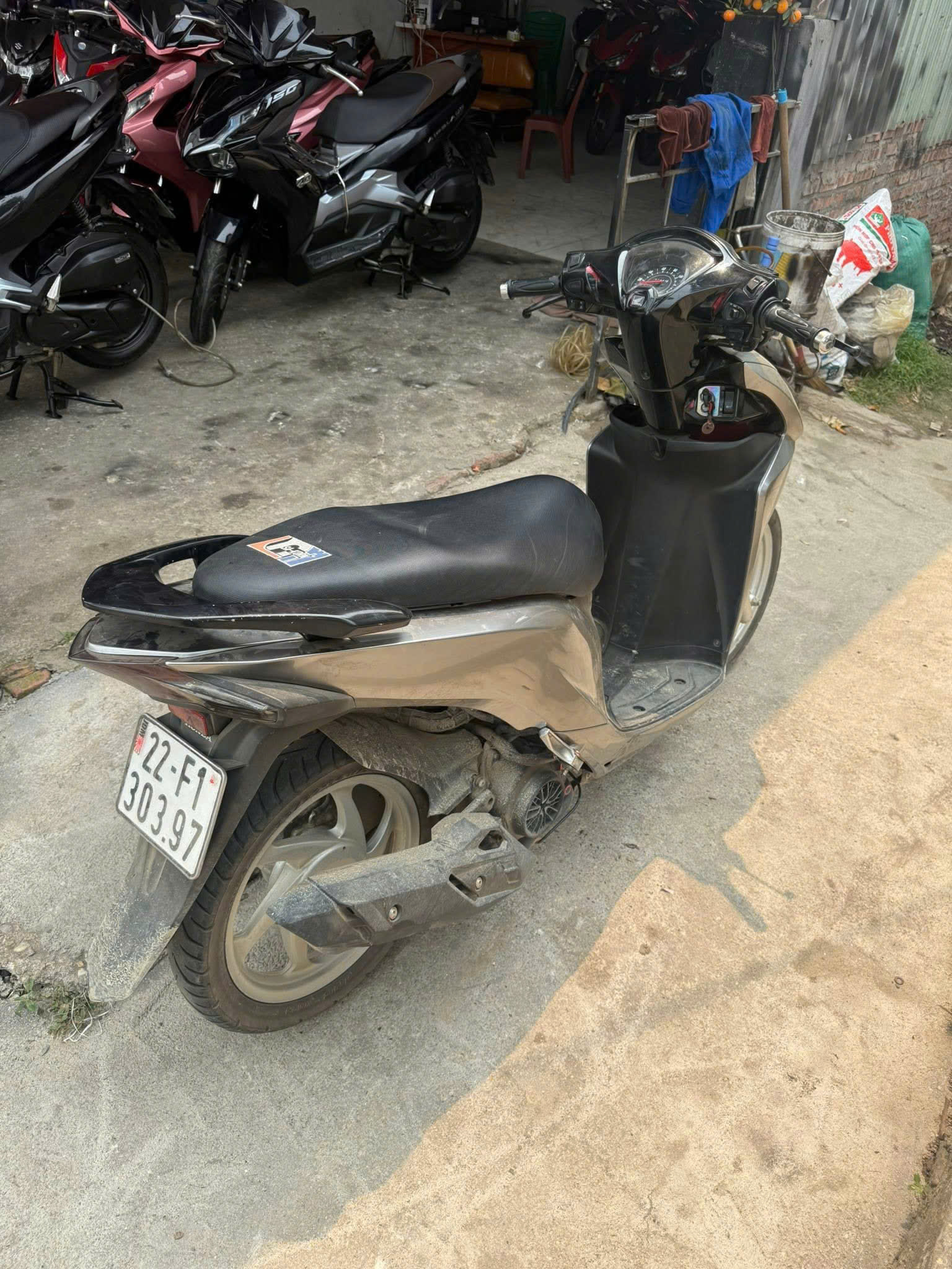Bien-so: (110, 705, 239, 887)
